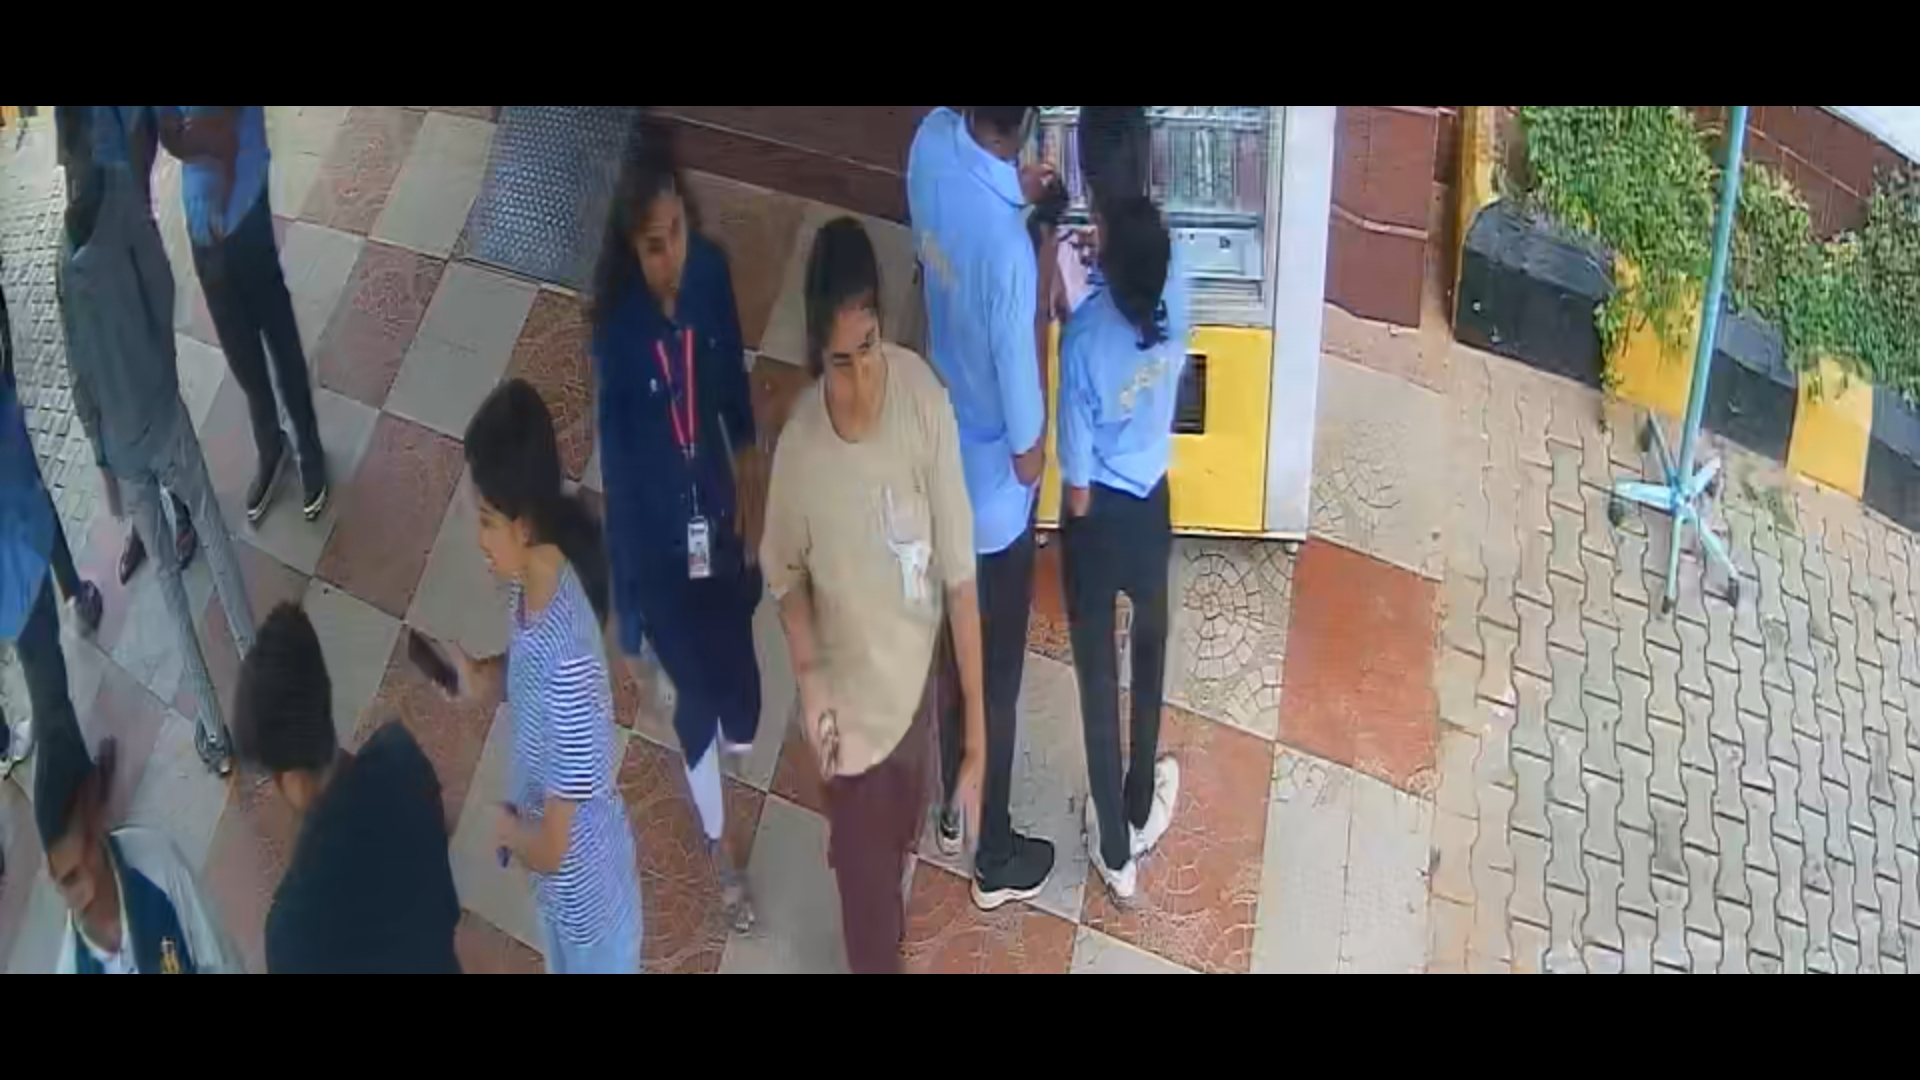intruder: (760, 216, 959, 986), (435, 369, 669, 963)
not intruder: (589, 107, 795, 945)
